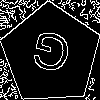G: (25, 29, 74, 84)
